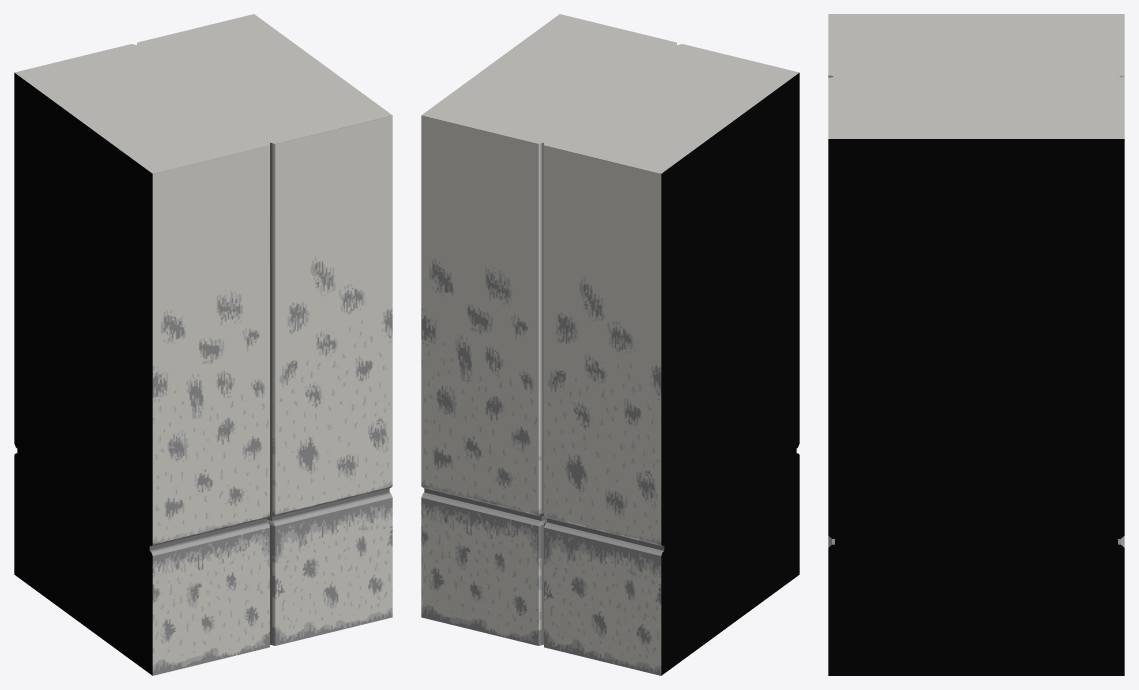
The model's file is bridge.fbx.
3 renders of one model, left to right at view 1: azimuth 30°, elevation 25°; view 2: azimuth 150°, elevation 25°; view 3: azimuth 270°, elevation 25°, orthographic. The views are drawn at different scales.
Parts seen in each view (by area): view 1: bridge.001; view 2: bridge.001; view 3: bridge.001.
Part boxes in pixels (bbox=[...]): bridge.001: bbox=[14, 14, 392, 675]; bridge.001: bbox=[421, 14, 799, 675]; bridge.001: bbox=[828, 14, 1124, 675].
Size of the model in its own units: 1100 by 2200 by 1100.
